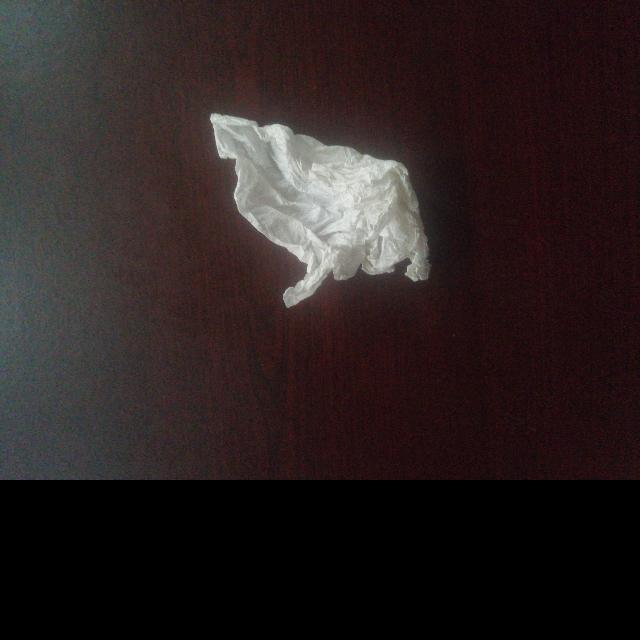kitchen paper: (203, 108, 445, 316)
